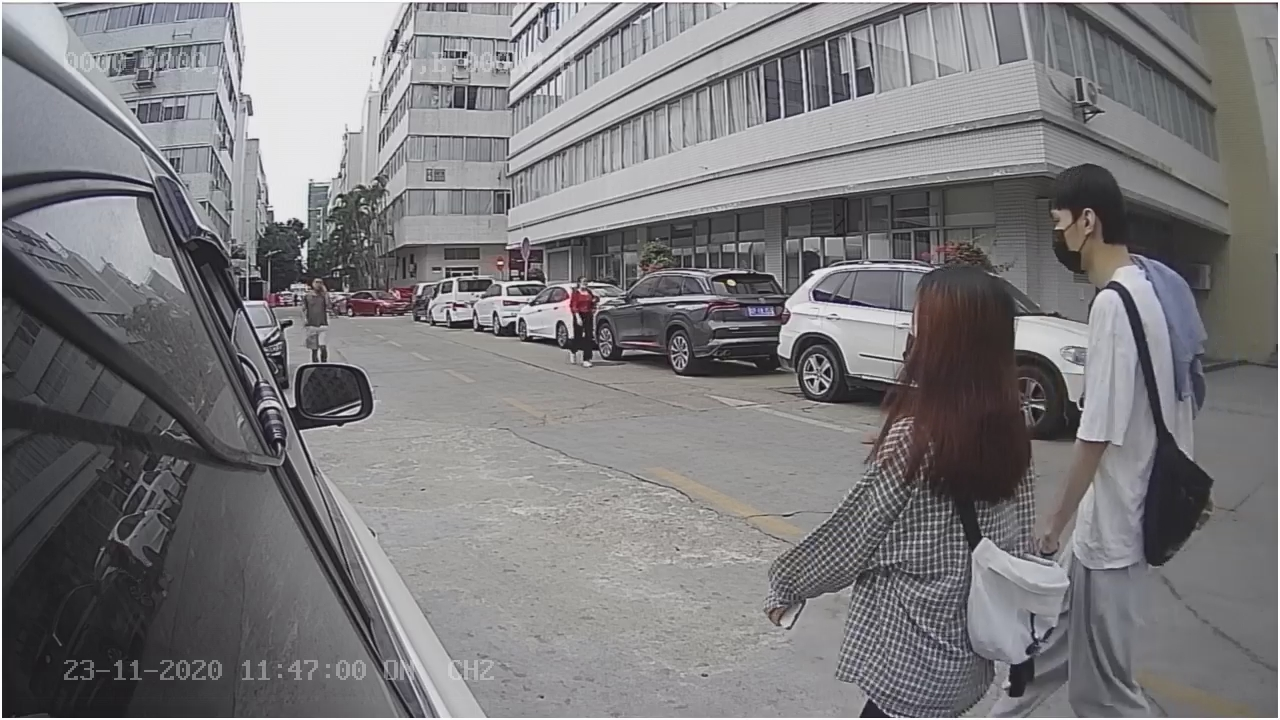person: (871, 256, 1045, 567)
